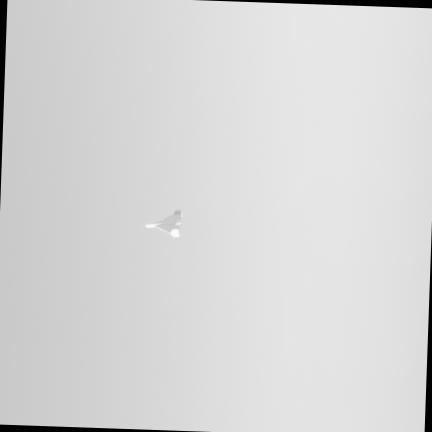Shahed: (144, 208, 183, 237)
